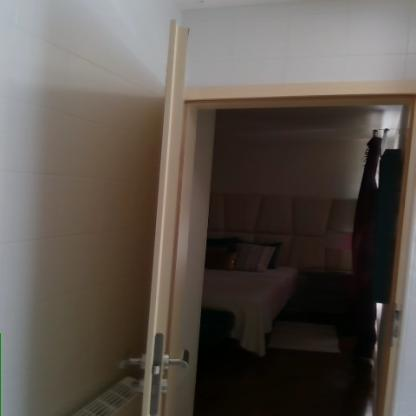open: (138, 36, 413, 404)
